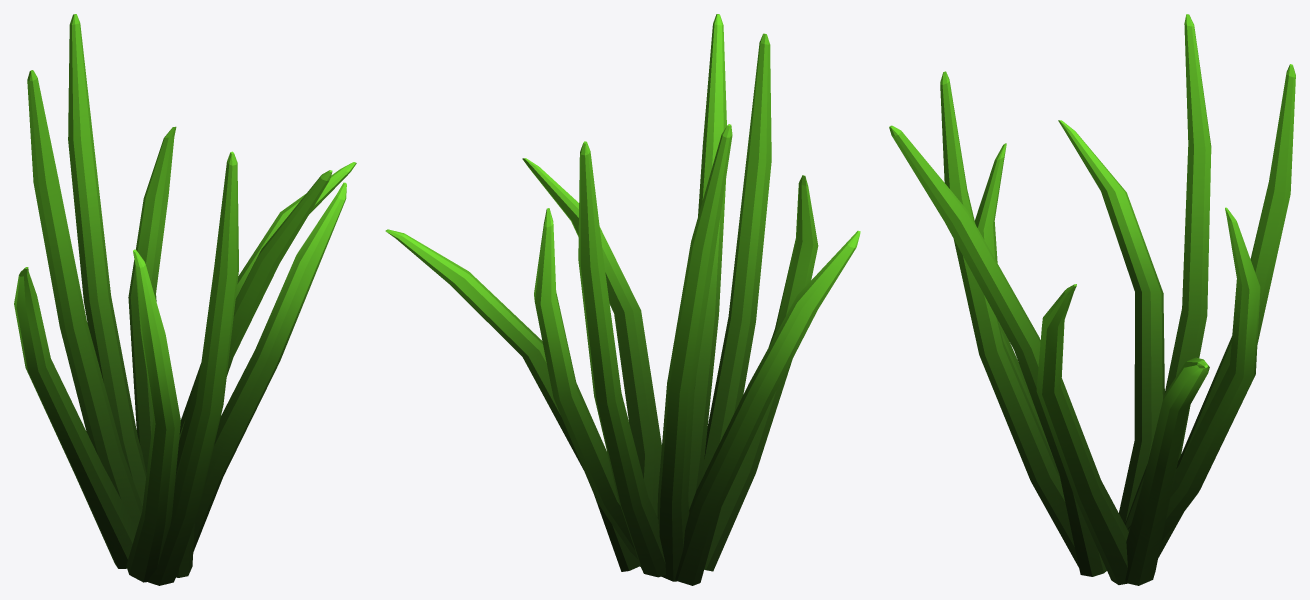
Rendered from Herbe_1.fbx.
3 views of the same model, side by side, from view 1: azimuth 30°, elevation 25°; view 2: azimuth 150°, elevation 25°; view 3: azimuth 270°, elevation 25° (orthographic). The views are drawn at different scales.
Visible parts, largest first — view 1: polySurface23; view 2: polySurface23; view 3: polySurface23.
Boxes of the visible parts, x1,y1,x2,y2 form: polySurface23: [14, 14, 356, 585]; polySurface23: [385, 14, 860, 585]; polySurface23: [889, 14, 1295, 585].
Bounding box in the file's own units: 4.92 × 5.78 × 4.17.
